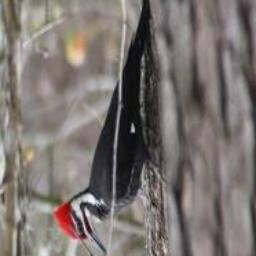Woodpecker: (50, 0, 167, 256)
